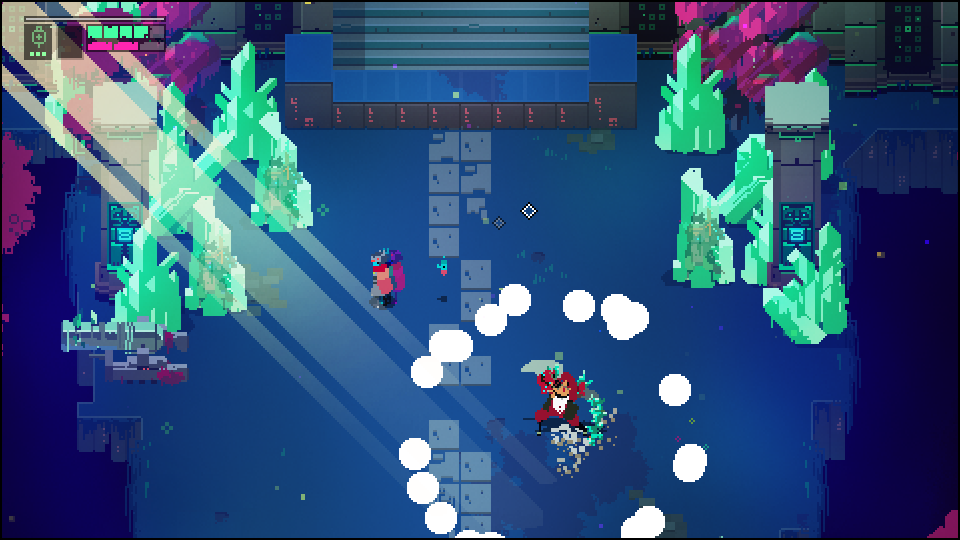hanged_man: (522, 356, 605, 448)
player: (369, 247, 394, 309)
